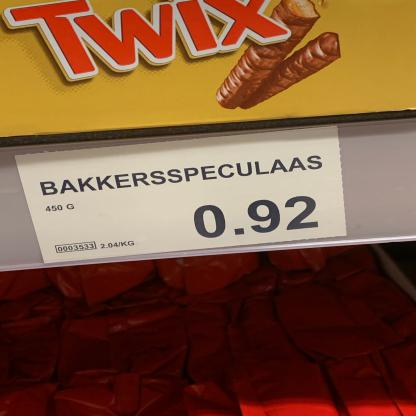prtg: (14, 126, 348, 265)
